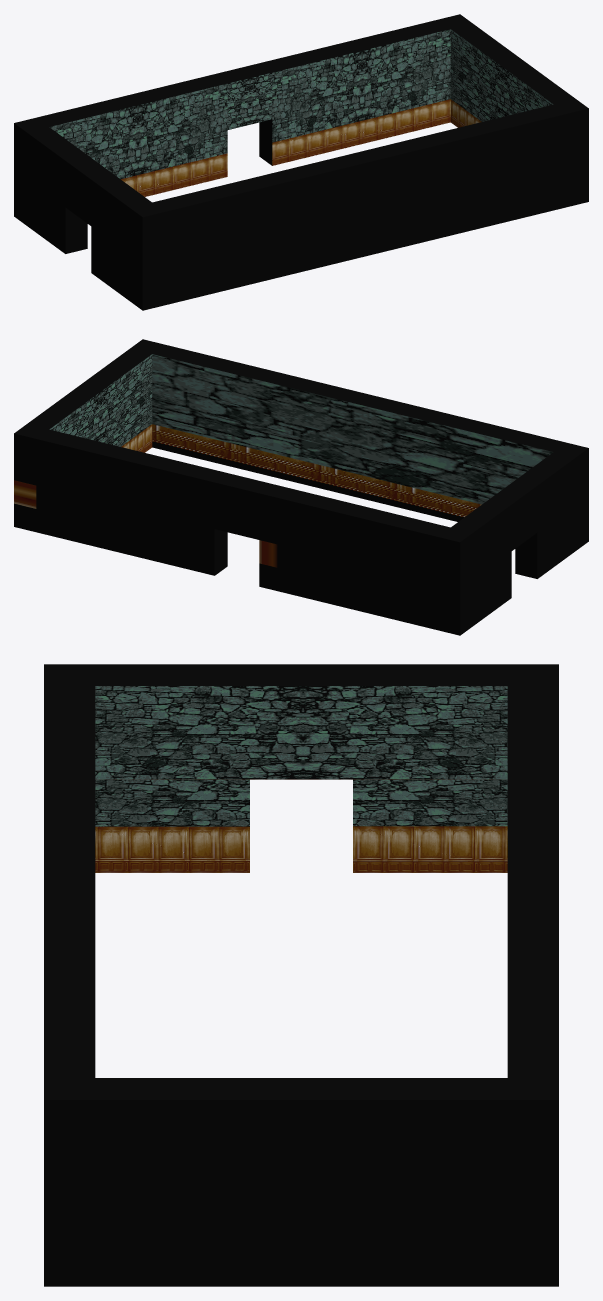
Rendered from walls_1.fbx.
3 renders of one model, top to bottom at view 1: azimuth 30°, elevation 25°; view 2: azimuth 150°, elevation 25°; view 3: azimuth 270°, elevation 25°, orthographic. The views are drawn at different scales.
Visible parts, largest first — view 1: WALL_01; view 2: WALL_01; view 3: WALL_01.
Boxes of the visible parts, left/top/right/bottom form: WALL_01: left=14, top=14, right=588, bottom=310; WALL_01: left=14, top=339, right=588, bottom=635; WALL_01: left=44, top=664, right=558, bottom=1286.
Size of the model in its own units: 4000 by 800 by 2000.
